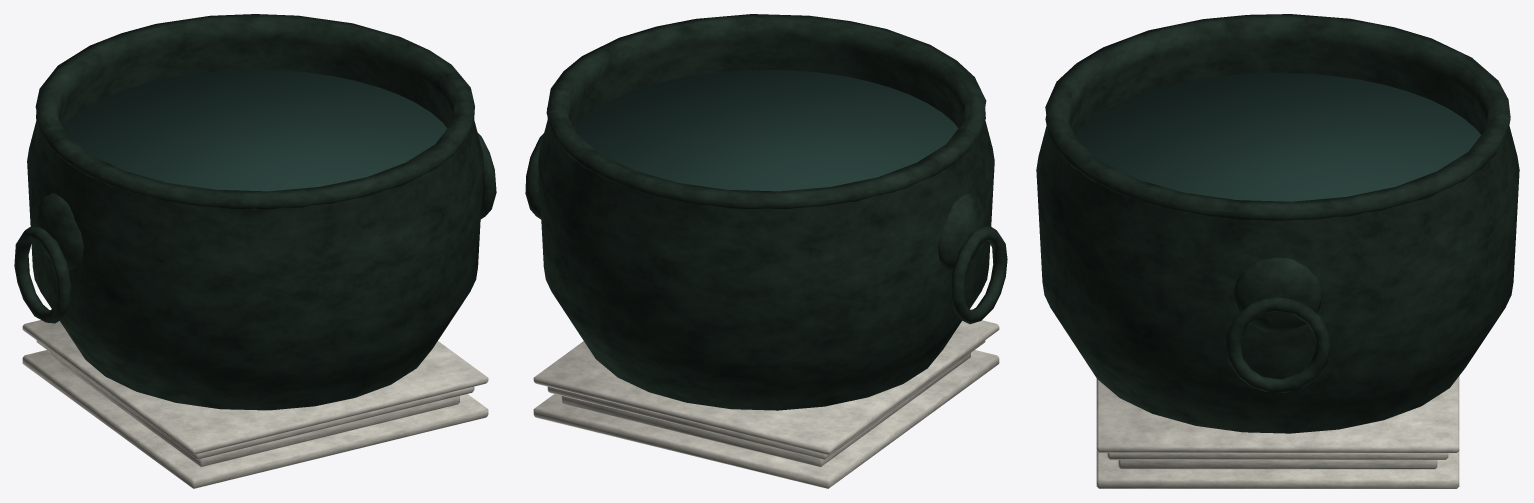
Rendered from vesiastia-rauta.glb.
The picture shows the model from 3 angles, left to right: view 1: azimuth 30°, elevation 25°; view 2: azimuth 150°, elevation 25°; view 3: azimuth 270°, elevation 25°; orthographic projection. The views are drawn at different scales.
Visible parts, largest first — view 1: tumma-rauta-vihrea-patina, vesi, vaalea-kivi; view 2: tumma-rauta-vihrea-patina, vesi, vaalea-kivi; view 3: tumma-rauta-vihrea-patina, vesi, vaalea-kivi.
Part boxes in pixels (bbox=[...]): tumma-rauta-vihrea-patina: bbox=[14, 14, 496, 410]; vesi: bbox=[63, 69, 447, 191]; vaalea-kivi: bbox=[22, 320, 488, 488]; tumma-rauta-vihrea-patina: bbox=[525, 14, 1007, 410]; vesi: bbox=[574, 69, 958, 191]; vaalea-kivi: bbox=[533, 320, 999, 488]; tumma-rauta-vihrea-patina: bbox=[1036, 14, 1519, 433]; vesi: bbox=[1075, 73, 1480, 201]; vaalea-kivi: bbox=[1096, 376, 1459, 488].
Bounding box in the file's own units: 1.75 × 1.1 × 1.59.
Materials: 3 (2 with a texture image).
